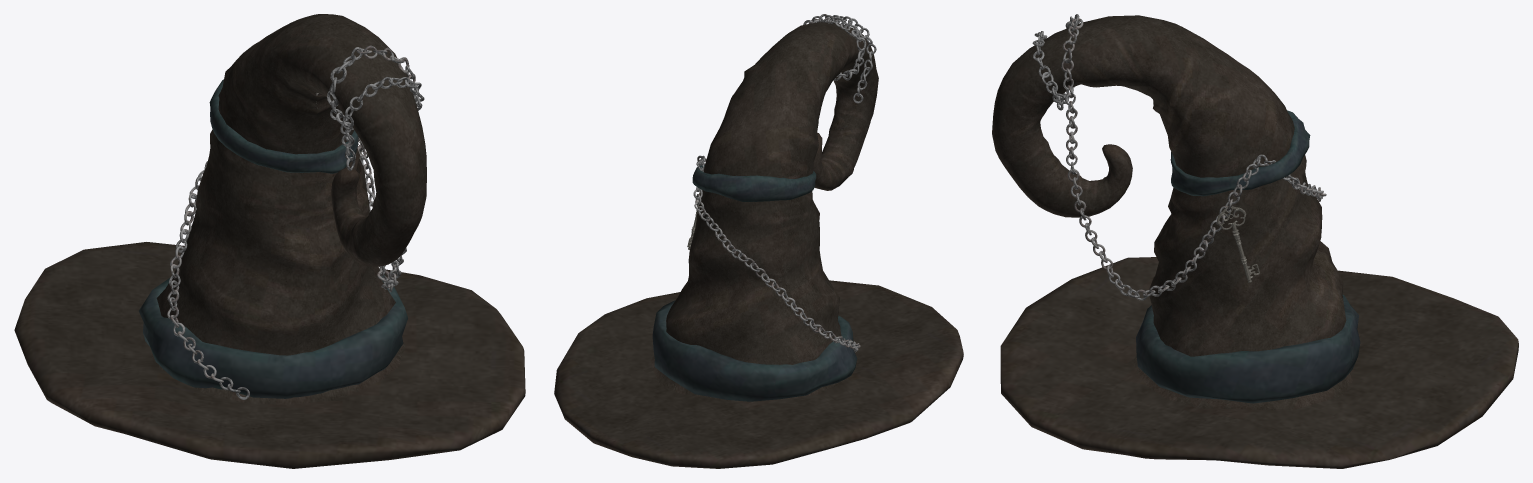
The model's file is wizards_hat.glb.
The picture shows the model from 3 angles, left to right: view 1: azimuth 30°, elevation 25°; view 2: azimuth 150°, elevation 25°; view 3: azimuth 270°, elevation 25°; orthographic projection. The views are drawn at different scales.
Visible parts, largest first — view 1: Hat_low, Belt_02_low, Chain_01_low, Belt_01_low, Chain_02_low; view 2: Hat_low, Belt_02_low, Belt_01_low, Chain_01_low, Chain_02_low; view 3: Hat_low, Belt_02_low, Chain_01_low, Belt_01_low, Chain_02_low, Key_low.
Part boxes in pixels (bbox=[...]): Hat_low: bbox=[14, 14, 525, 468]; Belt_02_low: bbox=[139, 269, 407, 398]; Chain_01_low: bbox=[167, 45, 418, 399]; Belt_01_low: bbox=[209, 79, 358, 173]; Chain_02_low: bbox=[327, 47, 424, 170]; Hat_low: bbox=[554, 22, 963, 468]; Belt_02_low: bbox=[652, 300, 857, 401]; Belt_01_low: bbox=[692, 165, 816, 201]; Chain_01_low: bbox=[693, 14, 860, 352]; Chain_02_low: bbox=[823, 15, 876, 103]; Hat_low: bbox=[992, 15, 1518, 468]; Belt_02_low: bbox=[1136, 294, 1360, 403]; Chain_01_low: bbox=[1061, 18, 1326, 300]; Belt_01_low: bbox=[1170, 110, 1310, 196]; Chain_02_low: bbox=[1032, 14, 1080, 110]; Key_low: bbox=[1217, 206, 1259, 282].
Size of the model in its own units: 1.72 by 1.54 by 2.
1 material, 1 textured.
